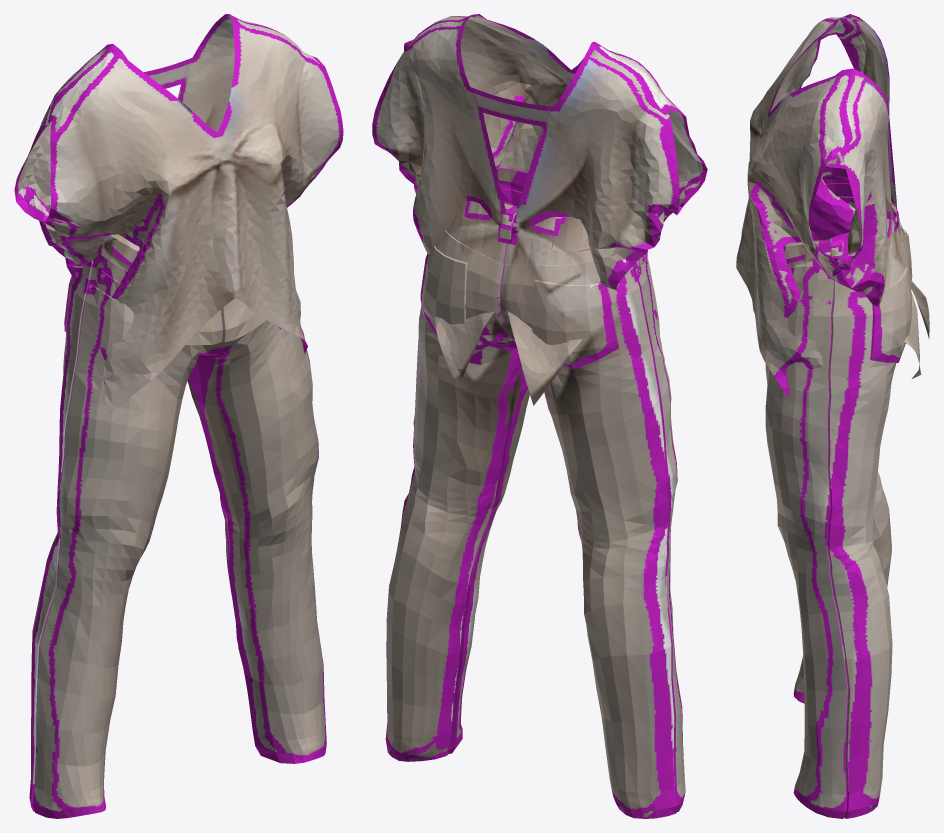
3 renders of one model, left to right at view 1: azimuth 30°, elevation 25°; view 2: azimuth 150°, elevation 25°; view 3: azimuth 270°, elevation 25°, orthographic. The views are drawn at different scales.
Size of the model in its own units: 0.3785 by 0.8845 by 0.2177.
Materials: 1 (1 with a texture image).
